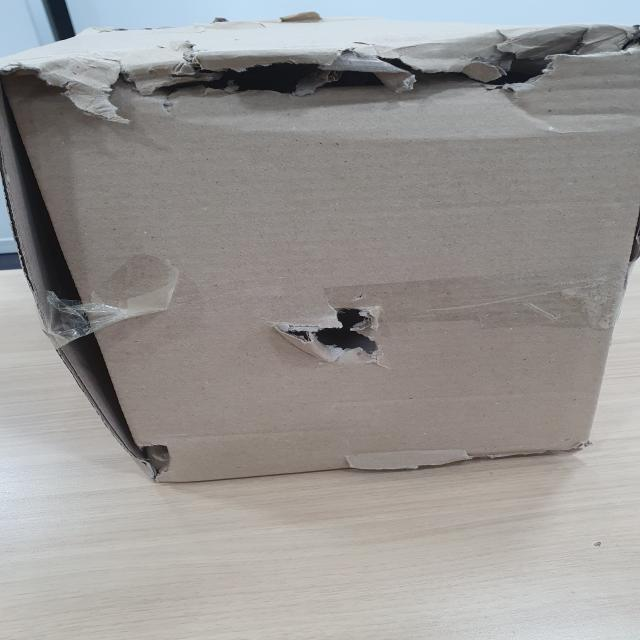hole: (149, 30, 600, 98), (277, 302, 382, 360)
